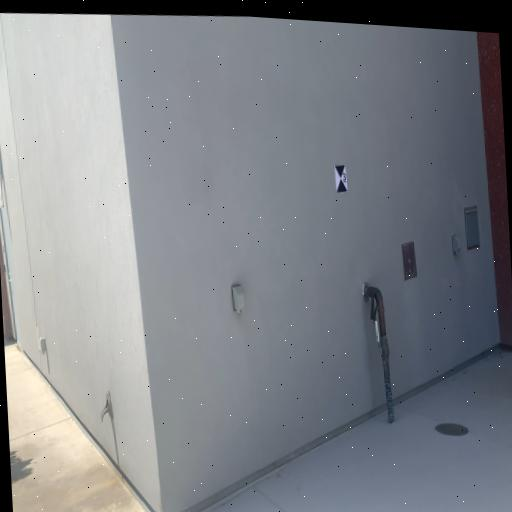target3: (334, 164, 348, 195)
